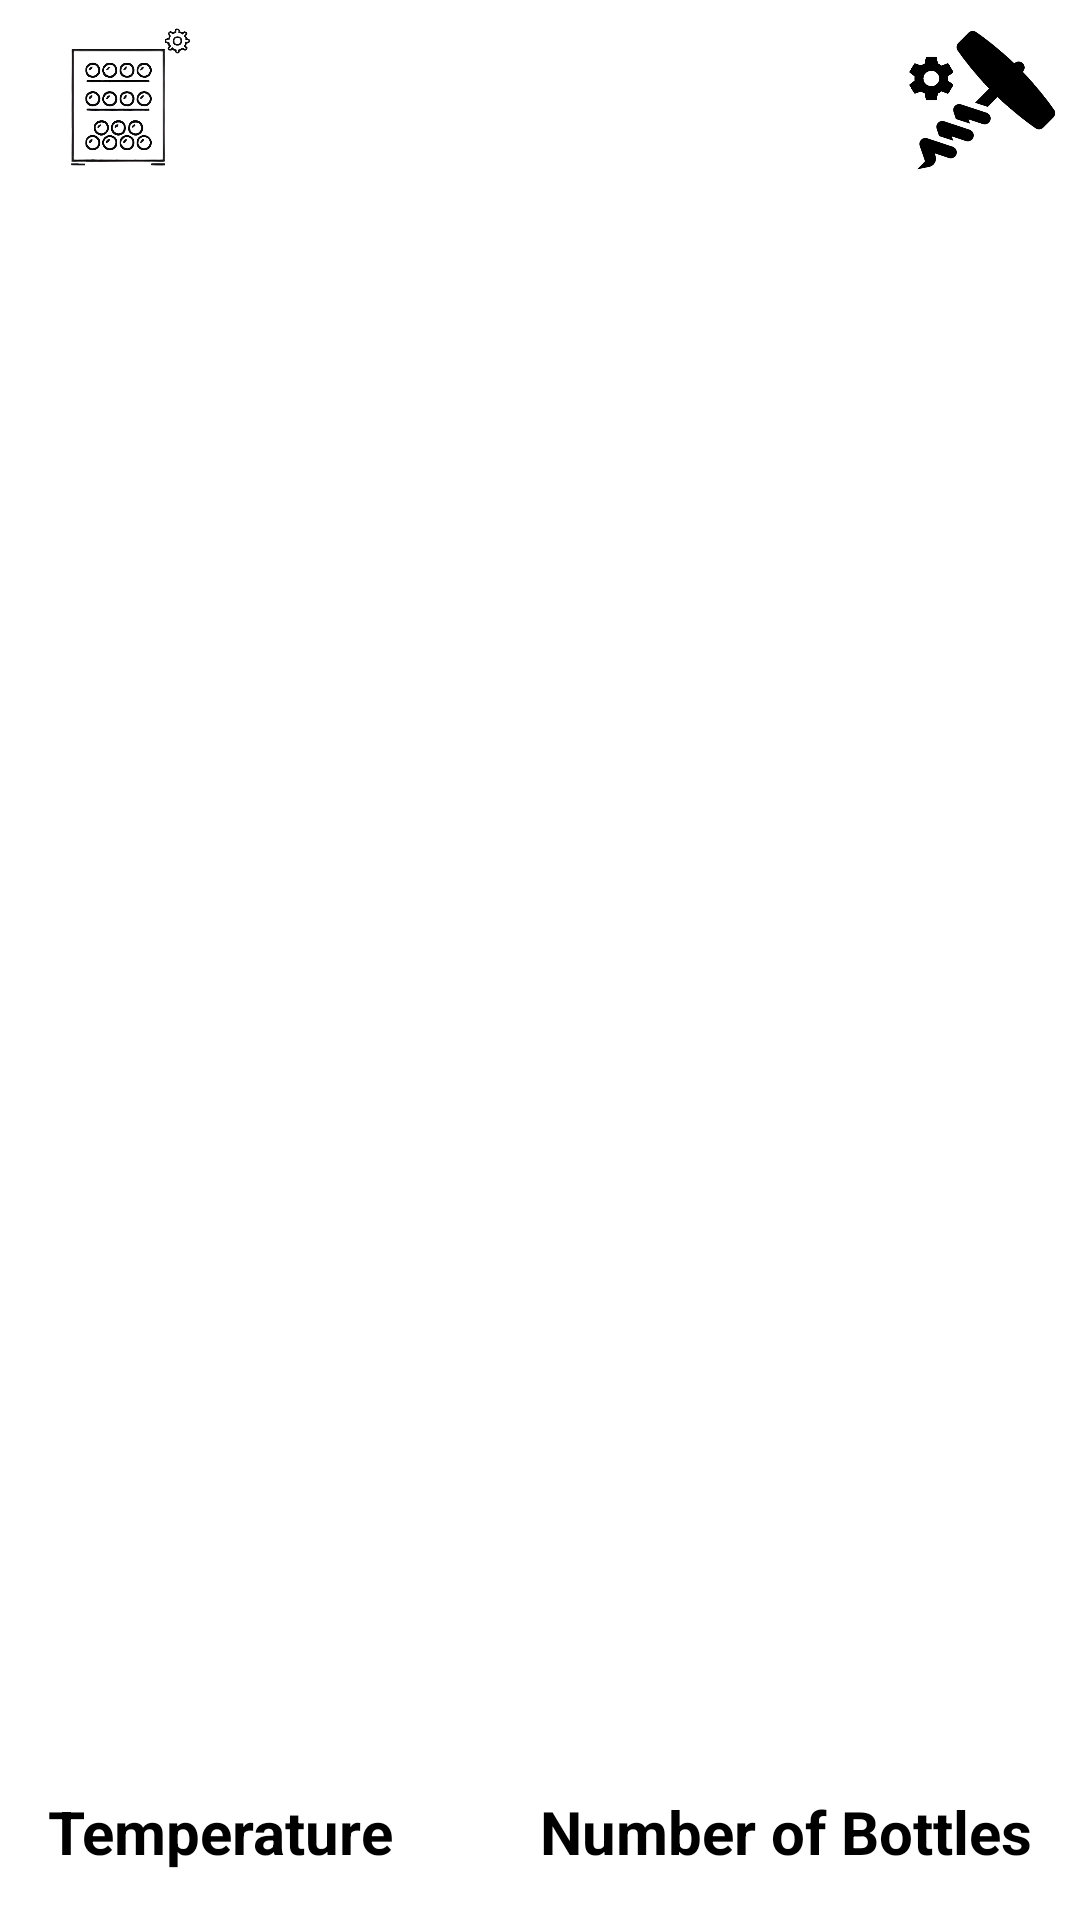

Point at icon controls on the screen. Image size 1080w x 1920h, points as [x,y].
cellar parameter: [130,97]
parameter: [982,100]
